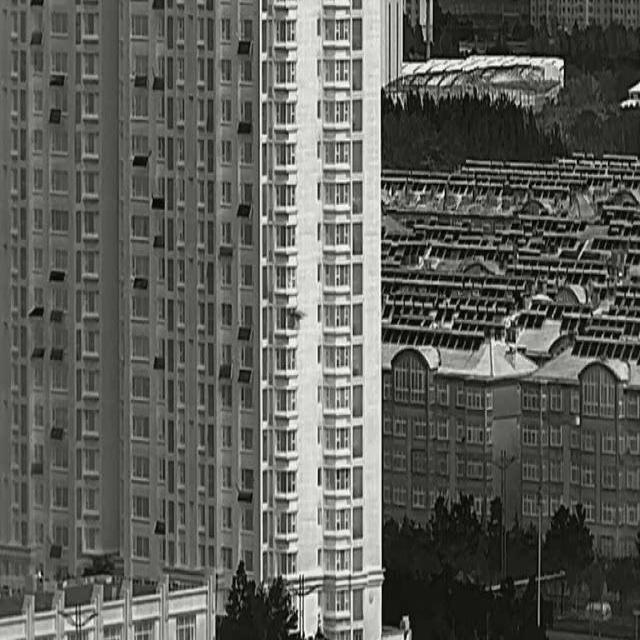drone: (286, 307, 307, 329)
